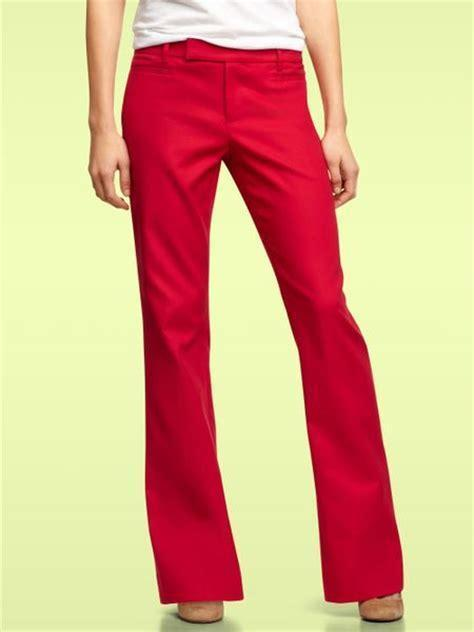pants: (122, 40, 406, 605)
